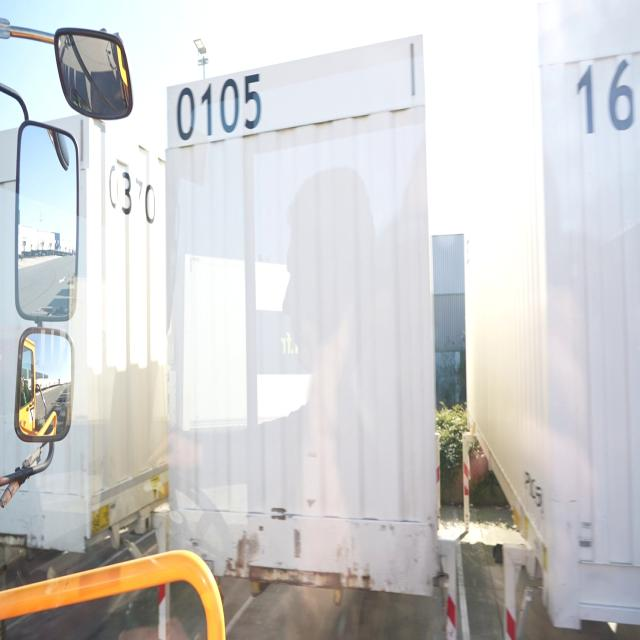Code: (176, 65, 265, 143)
